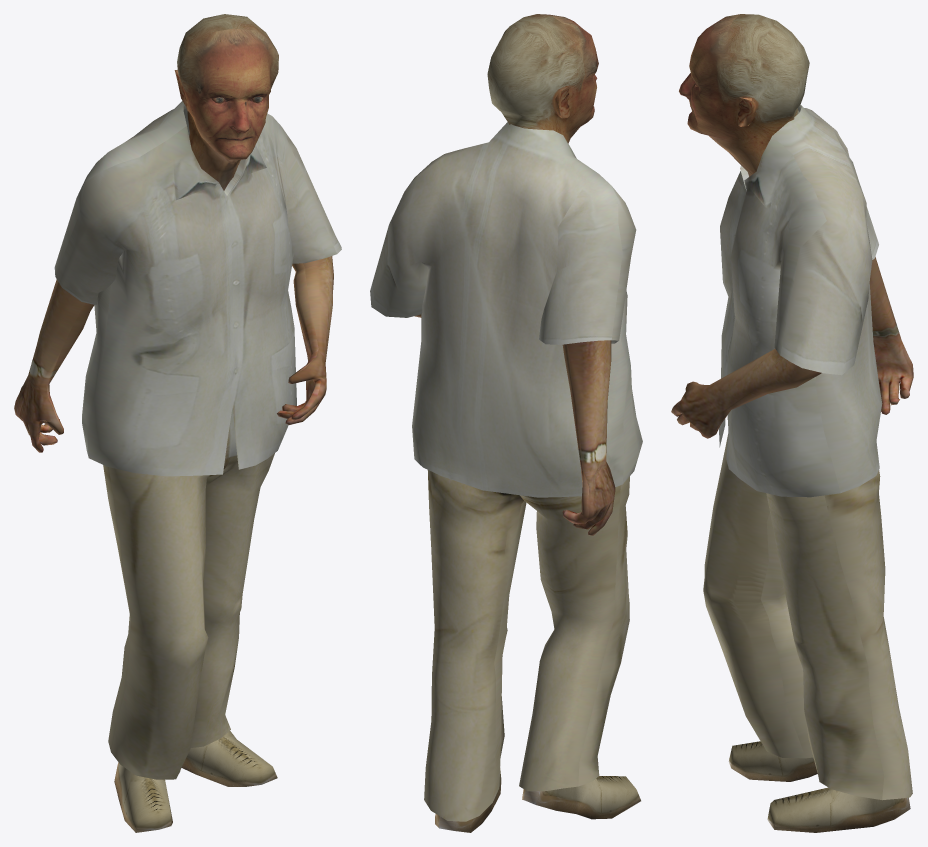
File: oldman.FBX
3 views of the same model, side by side, from view 1: azimuth 30°, elevation 25°; view 2: azimuth 150°, elevation 25°; view 3: azimuth 270°, elevation 25° (orthographic). The views are drawn at different scales.
Parts seen in each view (by area): view 1: cman0007-wa.layer01; view 2: cman0007-wa.layer01; view 3: cman0007-wa.layer01.
Boxes of the visible parts, left/top/right/bottom form: cman0007-wa.layer01: left=14, top=14, right=341, bottom=832; cman0007-wa.layer01: left=370, top=14, right=642, bottom=832; cman0007-wa.layer01: left=671, top=14, right=913, bottom=832.
Bounding box in the file's own units: 16.49 × 44.86 × 12.53.
Materials: 1 (1 with a texture image).
